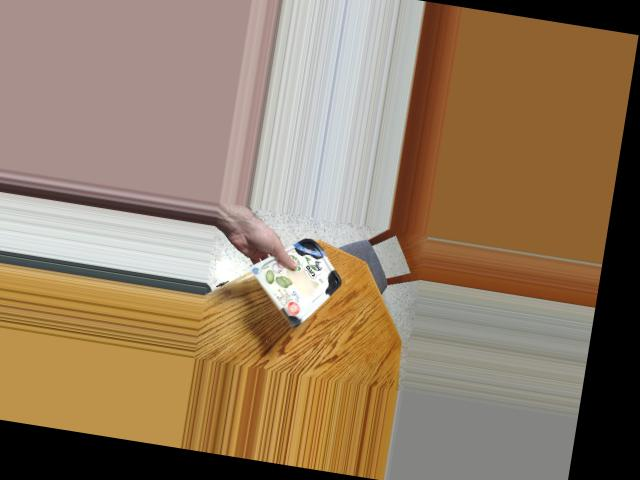cheese: (260, 232, 339, 321)
